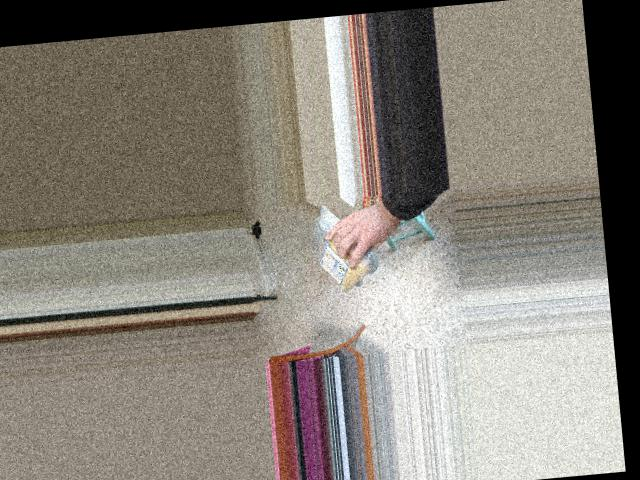cheese: (313, 201, 365, 303)
